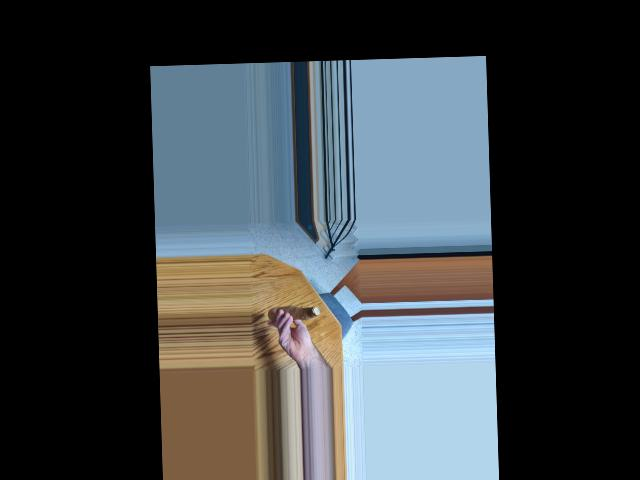sweet_potato: (271, 300, 316, 324)
